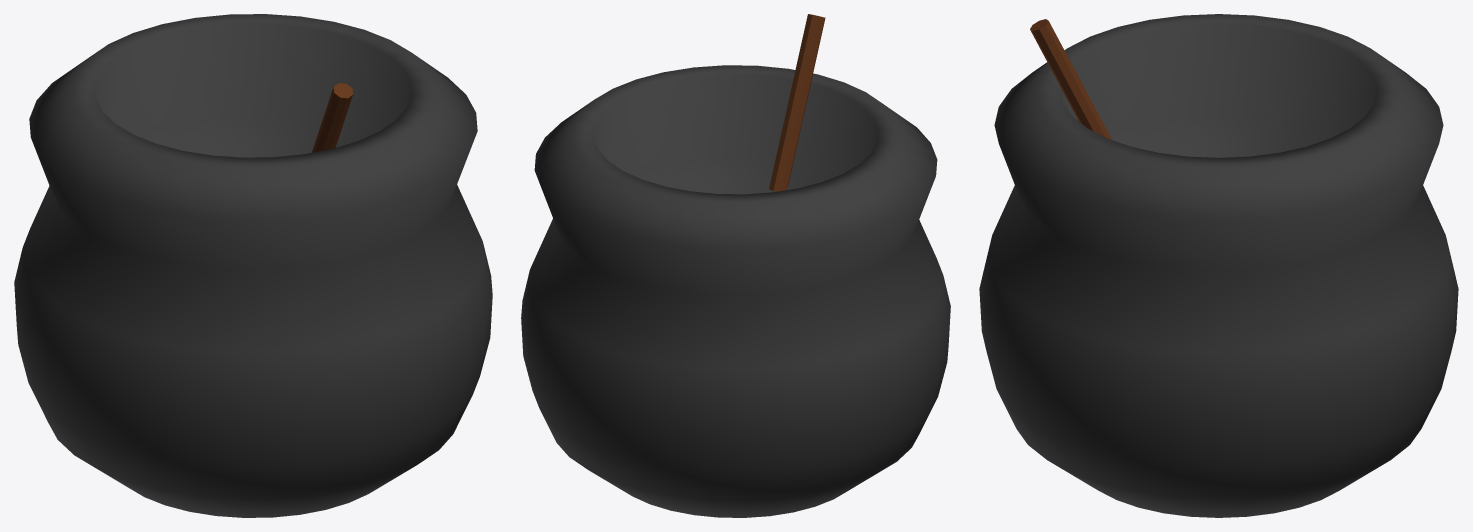
Rendered from cauldron.glb.
3 renders of one model, left to right at view 1: azimuth 30°, elevation 25°; view 2: azimuth 150°, elevation 25°; view 3: azimuth 270°, elevation 25°, orthographic. The views are drawn at different scales.
Visible parts, largest first — view 1: Cylinder.006, Cylinder.018; view 2: Cylinder.006, Cylinder.018; view 3: Cylinder.006, Cylinder.018.
Boxes of the visible parts, left/top/right/bottom form: Cylinder.006: left=14, top=14, right=492, bottom=517; Cylinder.018: left=312, top=83, right=352, bottom=152; Cylinder.006: left=521, top=65, right=950, bottom=517; Cylinder.018: left=769, top=14, right=825, bottom=191; Cylinder.006: left=979, top=14, right=1458, bottom=517; Cylinder.018: left=1030, top=19, right=1111, bottom=139.
Size of the model in its own units: 2.63 by 2.64 by 2.63.
